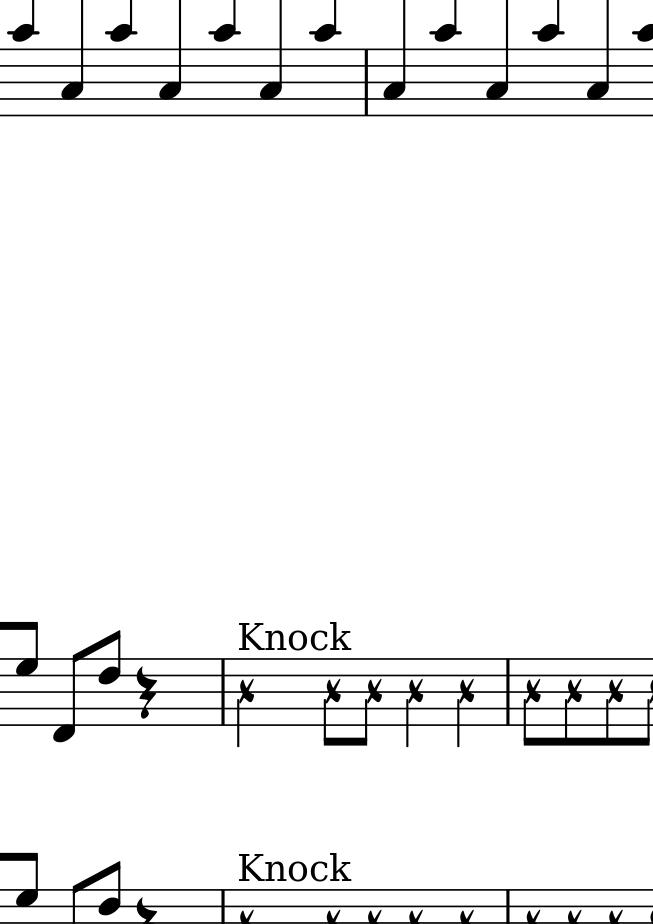8_-1: (49, 648, 86, 746)
8_6: (95, 630, 123, 730)
Rests4: (134, 662, 160, 721)
Single_barline: (358, 51, 376, 114), (499, 658, 516, 723), (216, 660, 232, 724)
